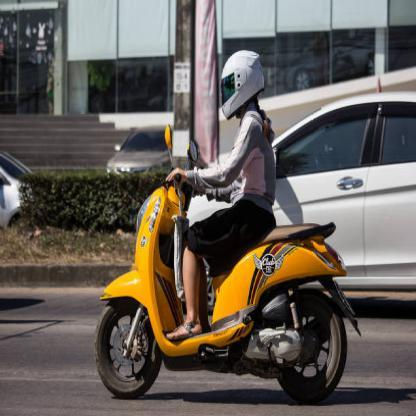Motorcycle: (95, 122, 357, 409)
